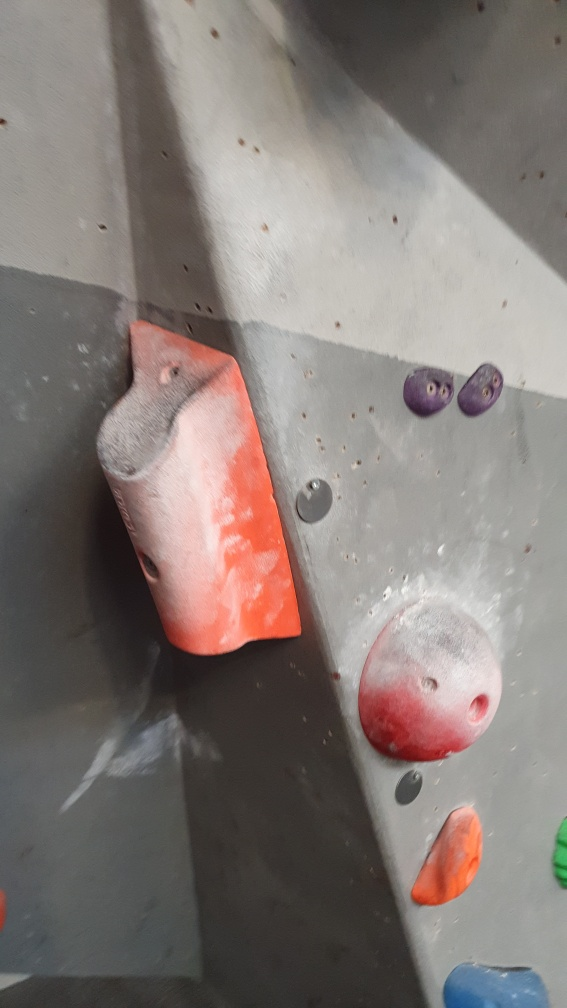Hand Start: (291, 470, 339, 534), (387, 768, 431, 809)
Pinch: (90, 316, 304, 666)
Sloper: (353, 590, 504, 767)
